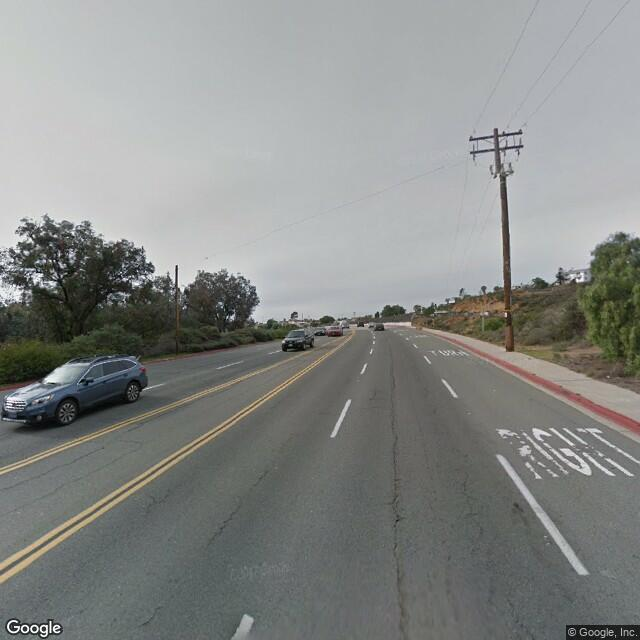litter: (603, 374, 611, 385)
